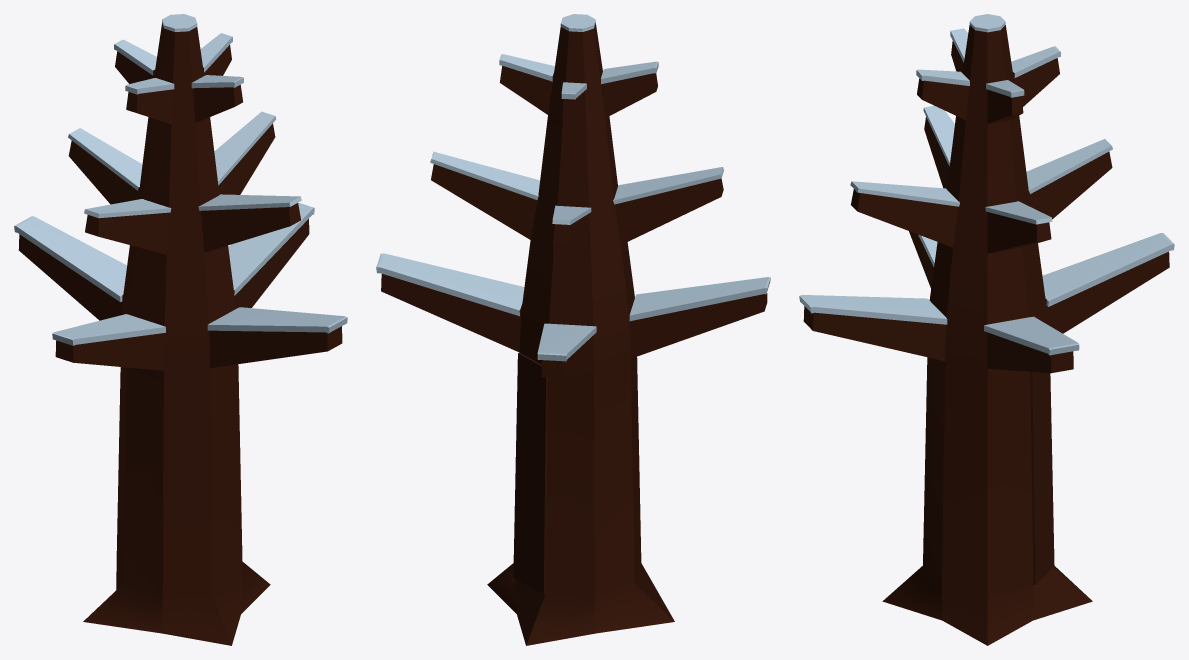
Rendered from M.arvore2.fbx.
3 views of the same model, side by side, from view 1: azimuth 30°, elevation 25°; view 2: azimuth 150°, elevation 25°; view 3: azimuth 270°, elevation 25° (orthographic).
Parts seen in each view (by area): view 1: pasted__pasted__pasted__pCylinder4; view 2: pasted__pasted__pasted__pCylinder4; view 3: pasted__pasted__pasted__pCylinder4.
Part boxes in pixels (bbox=[...]): pasted__pasted__pasted__pCylinder4: bbox=[14, 14, 347, 645]; pasted__pasted__pasted__pCylinder4: bbox=[376, 14, 770, 645]; pasted__pasted__pasted__pCylinder4: bbox=[799, 14, 1174, 645].
Size of the model in its own units: 3.09 by 5.31 by 3.12.
